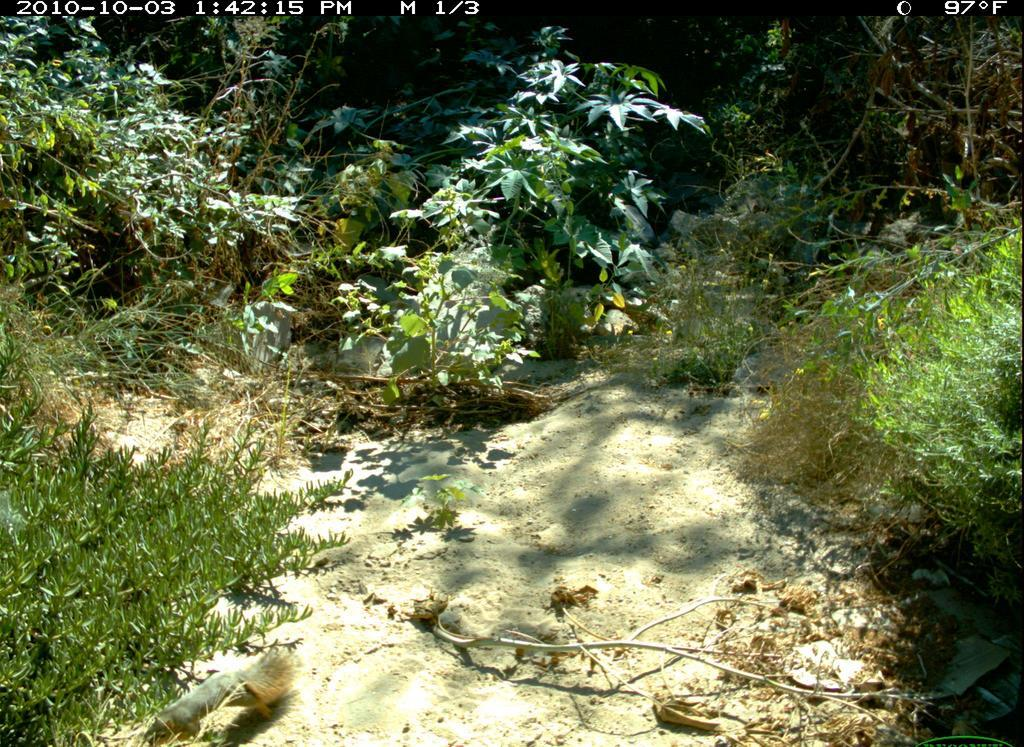squirrel: (120, 641, 310, 747)
